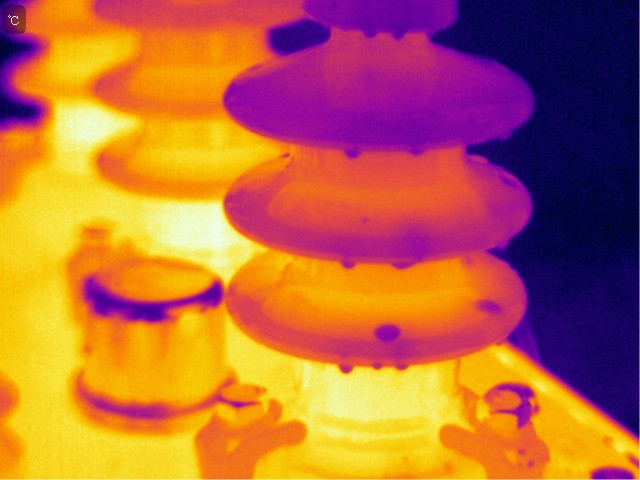Water: (495, 119, 518, 150), (368, 324, 406, 342), (494, 230, 517, 256), (476, 297, 503, 316), (391, 359, 415, 379), (389, 260, 422, 272), (386, 27, 410, 42), (334, 360, 355, 376), (361, 27, 380, 40), (339, 259, 359, 271), (369, 359, 383, 374), (344, 148, 364, 158), (409, 147, 427, 157)
